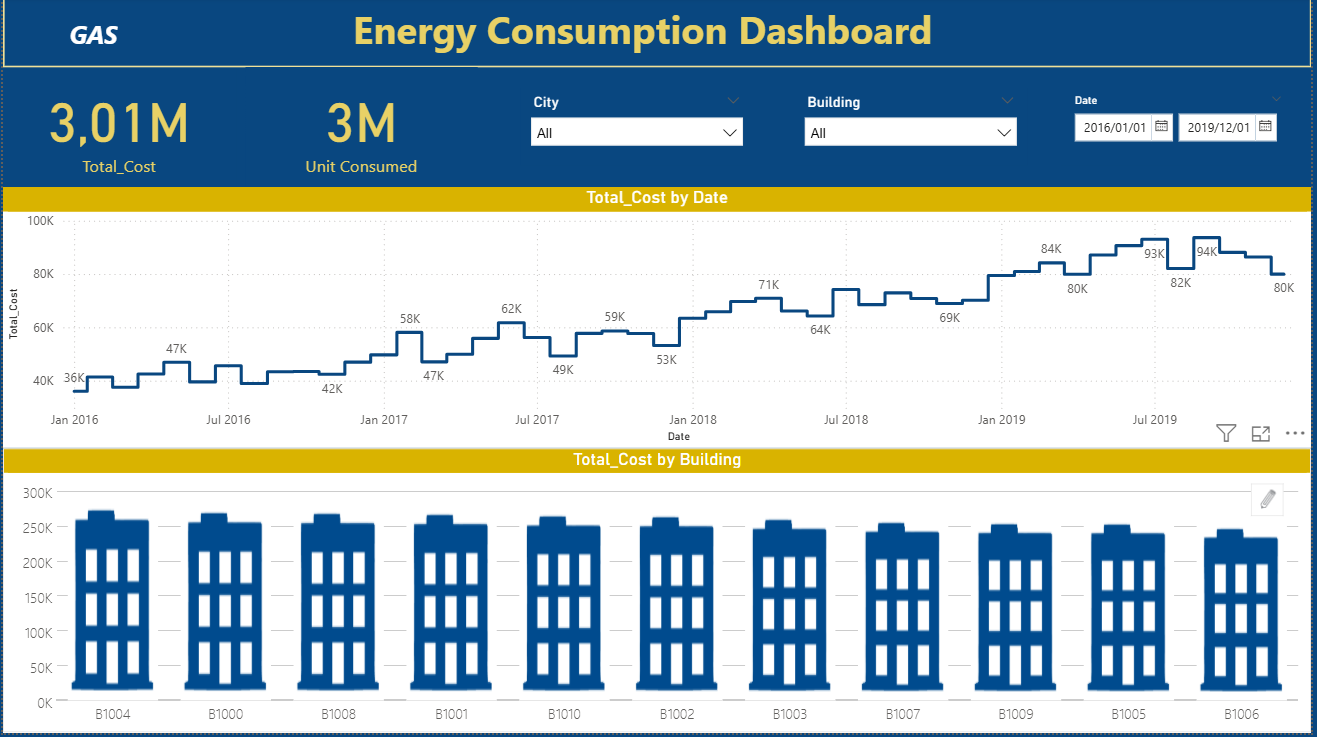

This screenshot's page, from the dashboard's own definition file:
{"tool":"powerbi","page":{"name":"Gas Consumption","canvas":[1280,720],"ordinal":0},"visuals":[{"type":"card","fields":{"Values":["Energy Consumptions.Gas_Total_Cost"]},"box":[0,68.6,227.8,116.6],"z":0},{"type":"textbox","box":[0,0,1280.3,68.6],"z":1000},{"type":"card","fields":{"Values":["Energy Consumptions.Gas Units Consumed"]},"box":[236.7,68.6,227.3,117],"z":2000},{"type":"slicer","fields":{"Values":["Building Master.City"]},"box":[505.7,88.8,227.3,75.3],"z":3000},{"type":"slicer","fields":{"Values":["Energy Consumptions.Building"]},"box":[773.9,89.2,227.8,75.5],"z":4000},{"type":"slicer","fields":{"Values":["Energy Consumptions.Date"]},"box":[1036,89.2,227.8,75.5],"z":5000},{"type":"lineChart","title":"Total_Cost by Date","fields":{"Y":["Energy Consumptions.Gas_Total_Cost"],"Category":["Energy Consumptions.Date.Variation.Date Hierarchy.Year","Energy Consumptions.Date.Variation.Date Hierarchy.Quarter","Energy Consumptions.Date.Variation.Date Hierarchy.Month","Energy Consumptions.Date.Variation.Date Hierarchy.Day"]},"box":[0,185.6,1280.3,255.5],"z":6000},{"type":"PBI_CV_73744D90_4DC9_4F18_8BA5_EE8FA5C98035","title":"Total_Cost by  Building","fields":{"Values":["Energy Consumptions.Gas_Total_Cost"],"Category":["Building Master.Building"]},"box":[0,441.1,1280.3,278.4],"z":6001}]}

Visuals, with their boxes in screenshot pixels (x1, y1, x2, y2), scaled from the page's 1280x720 canvas onto the 1317x737 screenshot:
card - Energy Consumptions.Gas_Total_Cost: 0/70/234/190
textbox: 0/0/1316/70
card - Energy Consumptions.Gas Units Consumed: 244/70/477/190
slicer - Building Master.City: 520/91/754/168
slicer - Energy Consumptions.Building: 796/91/1031/169
slicer - Energy Consumptions.Date: 1066/91/1300/169
"Total_Cost by Date" lineChart: 0/190/1316/452
"Total_Cost by  Building" PBI_CV_73744D90_4DC9_4F18_8BA5_EE8FA5C98035: 0/452/1316/736
